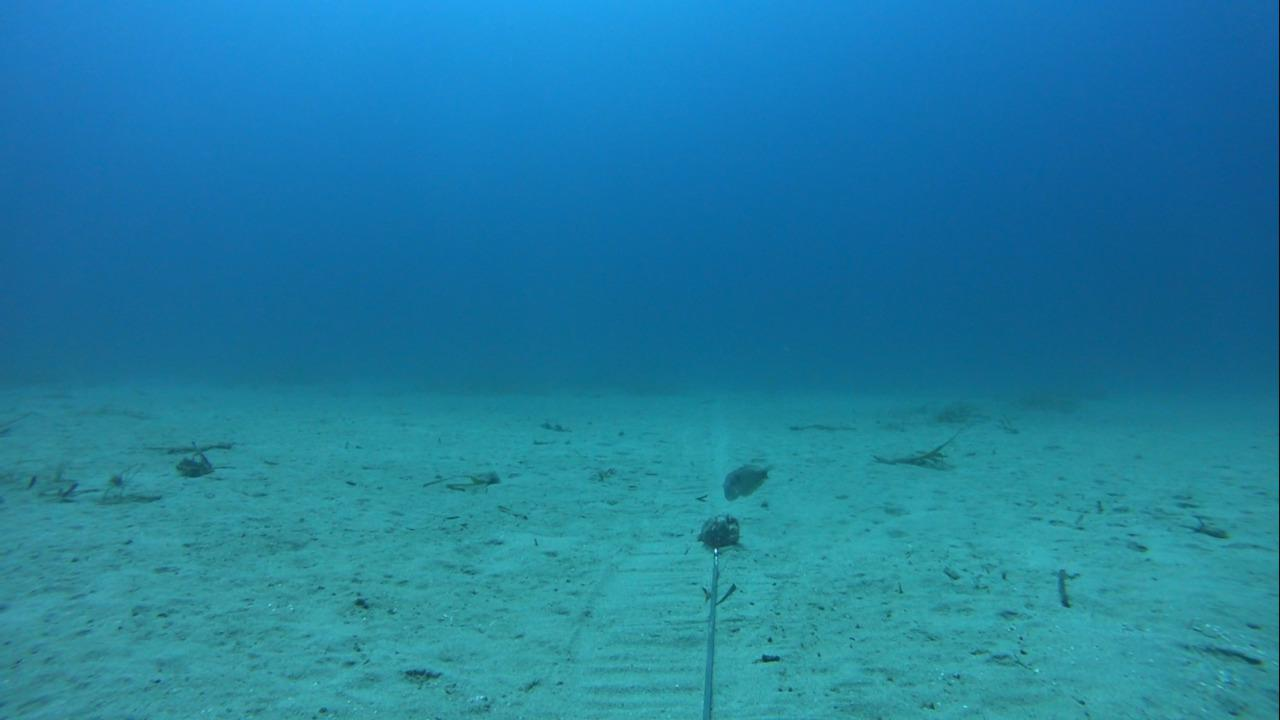raor: (713, 458, 775, 502)
